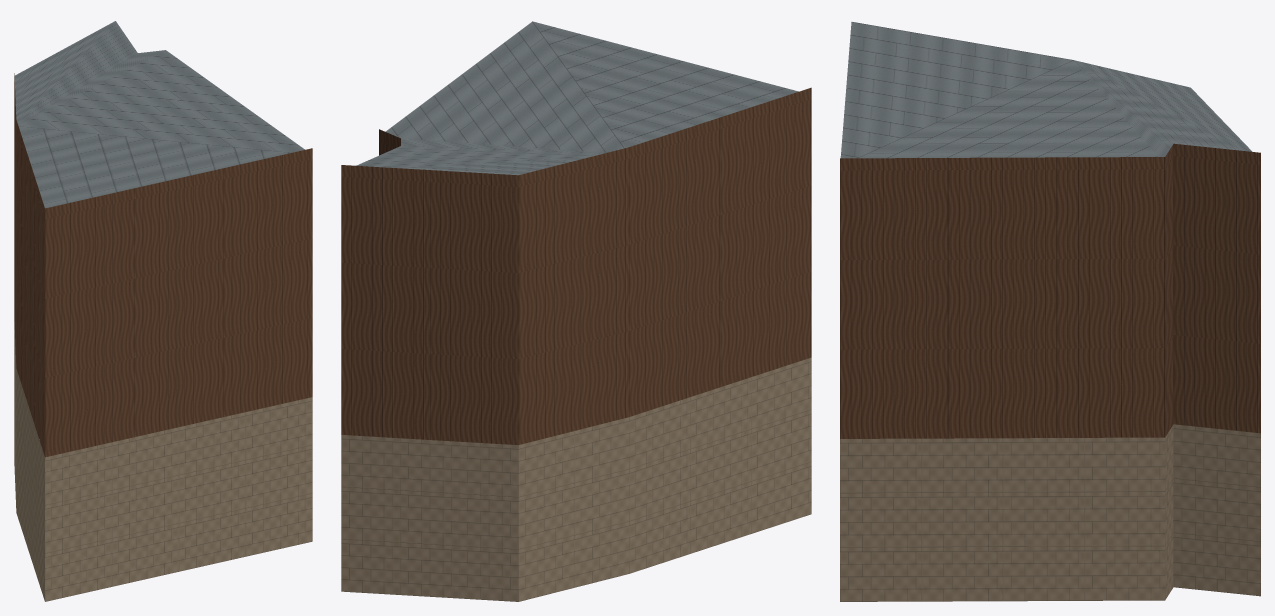
The model's file is bld_c10_27_403.gltf.
3 views of the same model, side by side, from view 1: azimuth 30°, elevation 25°; view 2: azimuth 150°, elevation 25°; view 3: azimuth 270°, elevation 25° (orthographic). The views are drawn at different scales.
Visible parts, largest first — view 1: bld_c10_27_403; view 2: bld_c10_27_403; view 3: bld_c10_27_403.
Boxes of the visible parts, box(x1,y1,x2,y2) form: bld_c10_27_403: box(14, 21, 312, 601); bld_c10_27_403: box(341, 21, 811, 601); bld_c10_27_403: box(840, 22, 1260, 601).
Bounding box in the file's own units: 9.69 × 13.88 × 11.94.
Materials: 4 (4 with a texture image).
